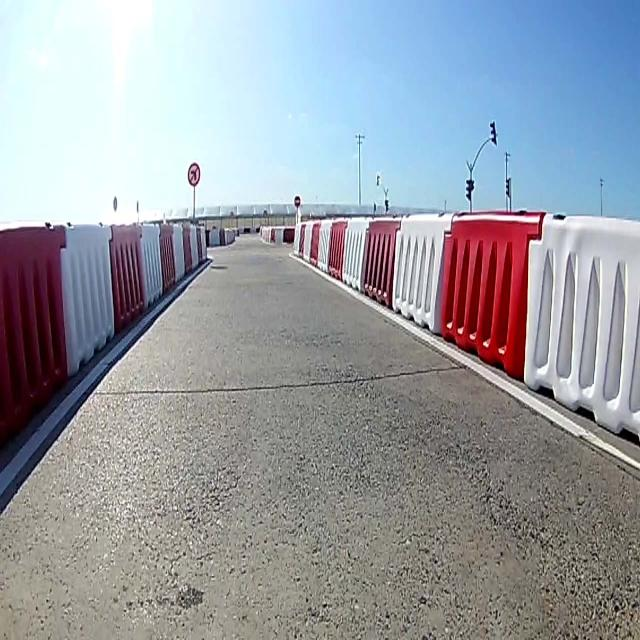girisyok: (294, 196, 301, 208)
soladonulmez: (188, 160, 200, 187)
